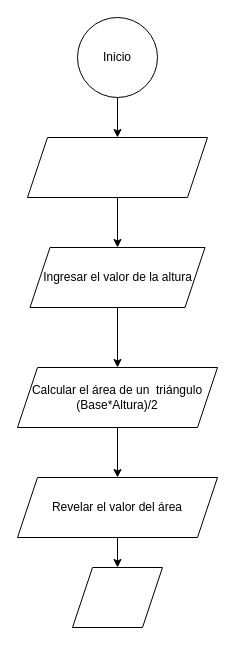
This 235x645 diagram has some shape labels left out. Here are the shapes that lost their labels. From the top down, the centre of each, then its label:
(117,167): Ingresar el valor de la base
(117,597): Fin
